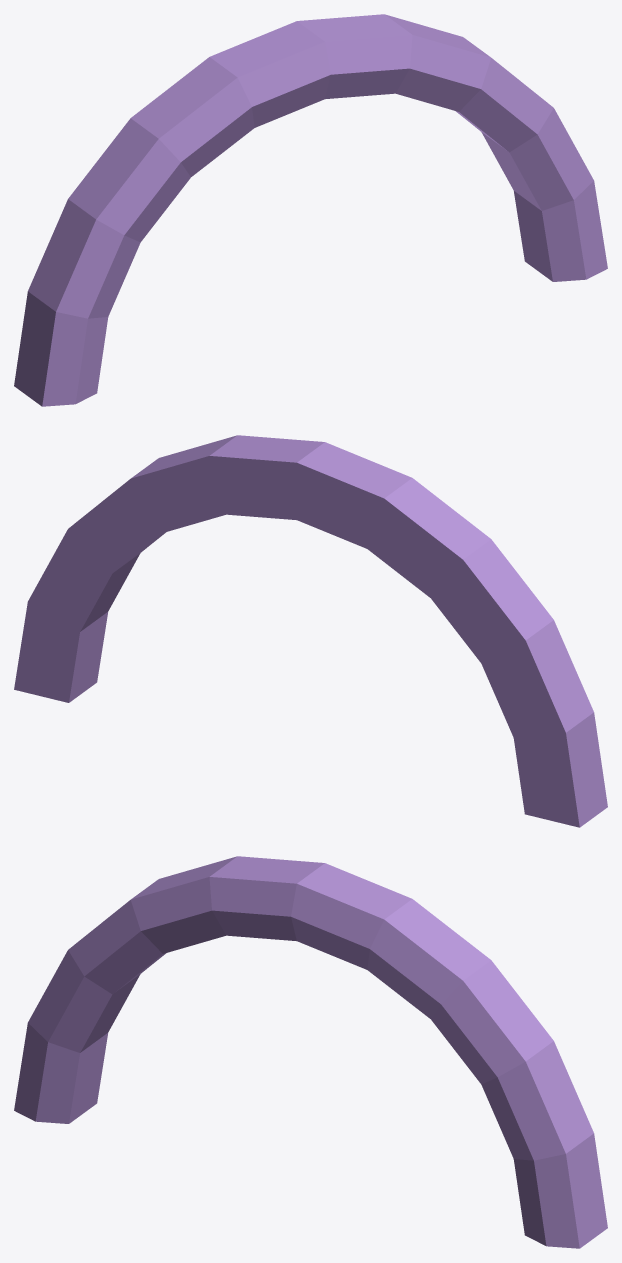
The picture shows the model from 3 angles, top to bottom: view 1: azimuth 30°, elevation 25°; view 2: azimuth 150°, elevation 25°; view 3: azimuth 330°, elevation 25°; orthographic projection.
Parts seen in each view (by area): view 1: 独立纸色带_4_RainbowPurple.001; view 2: 独立纸色带_4_RainbowPurple.001; view 3: 独立纸色带_4_RainbowPurple.001.
Boxes of the visible parts, box(x1,y1,x2,y2) form: 独立纸色带_4_RainbowPurple.001: box(14, 14, 607, 406); 独立纸色带_4_RainbowPurple.001: box(14, 435, 607, 827); 独立纸色带_4_RainbowPurple.001: box(14, 856, 607, 1248).
Size of the model in its own units: 1.39 by 0.695 by 0.145.
